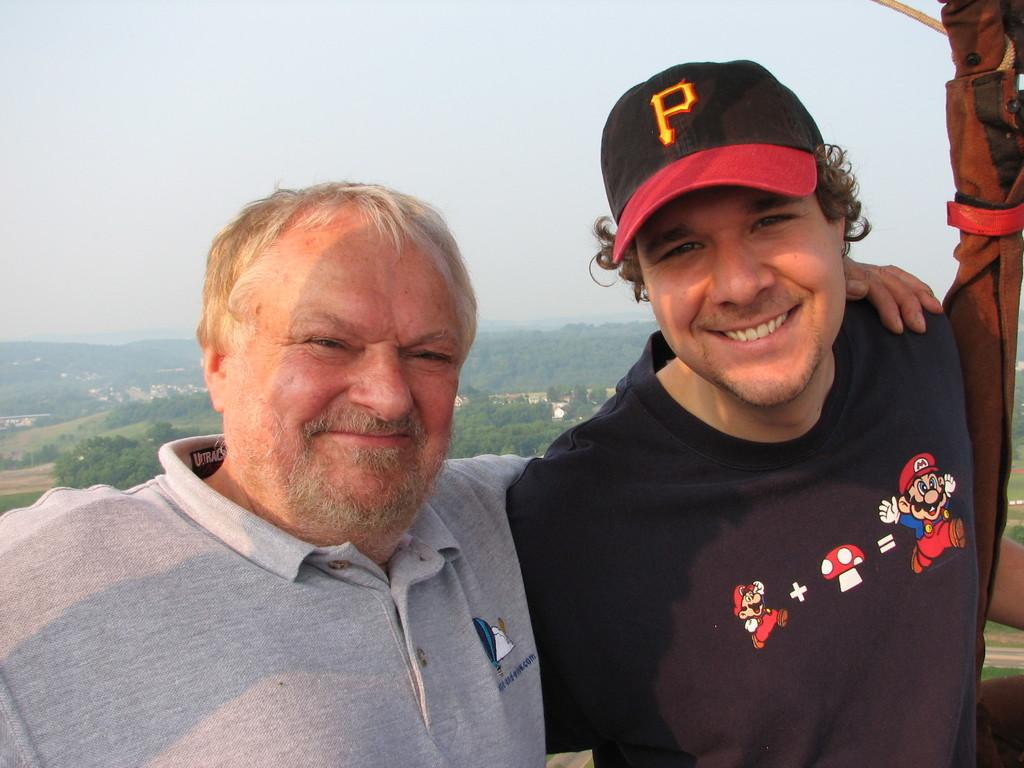Hat: (599, 60, 831, 262)
